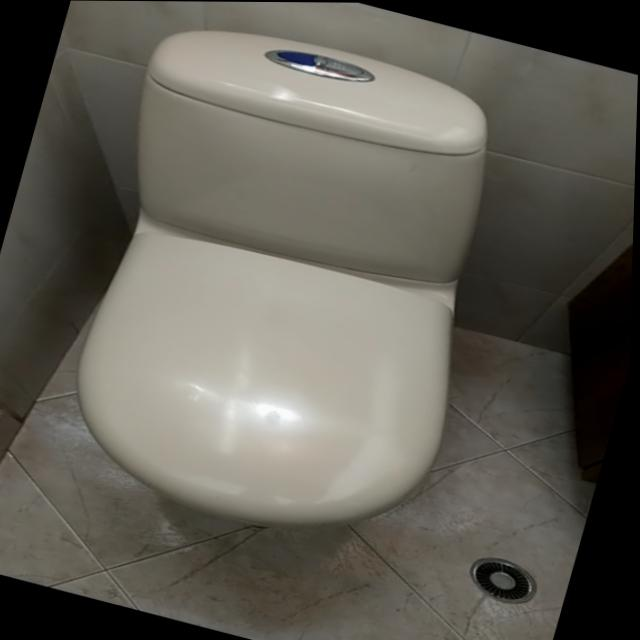toilet: (34, 2, 541, 565)
